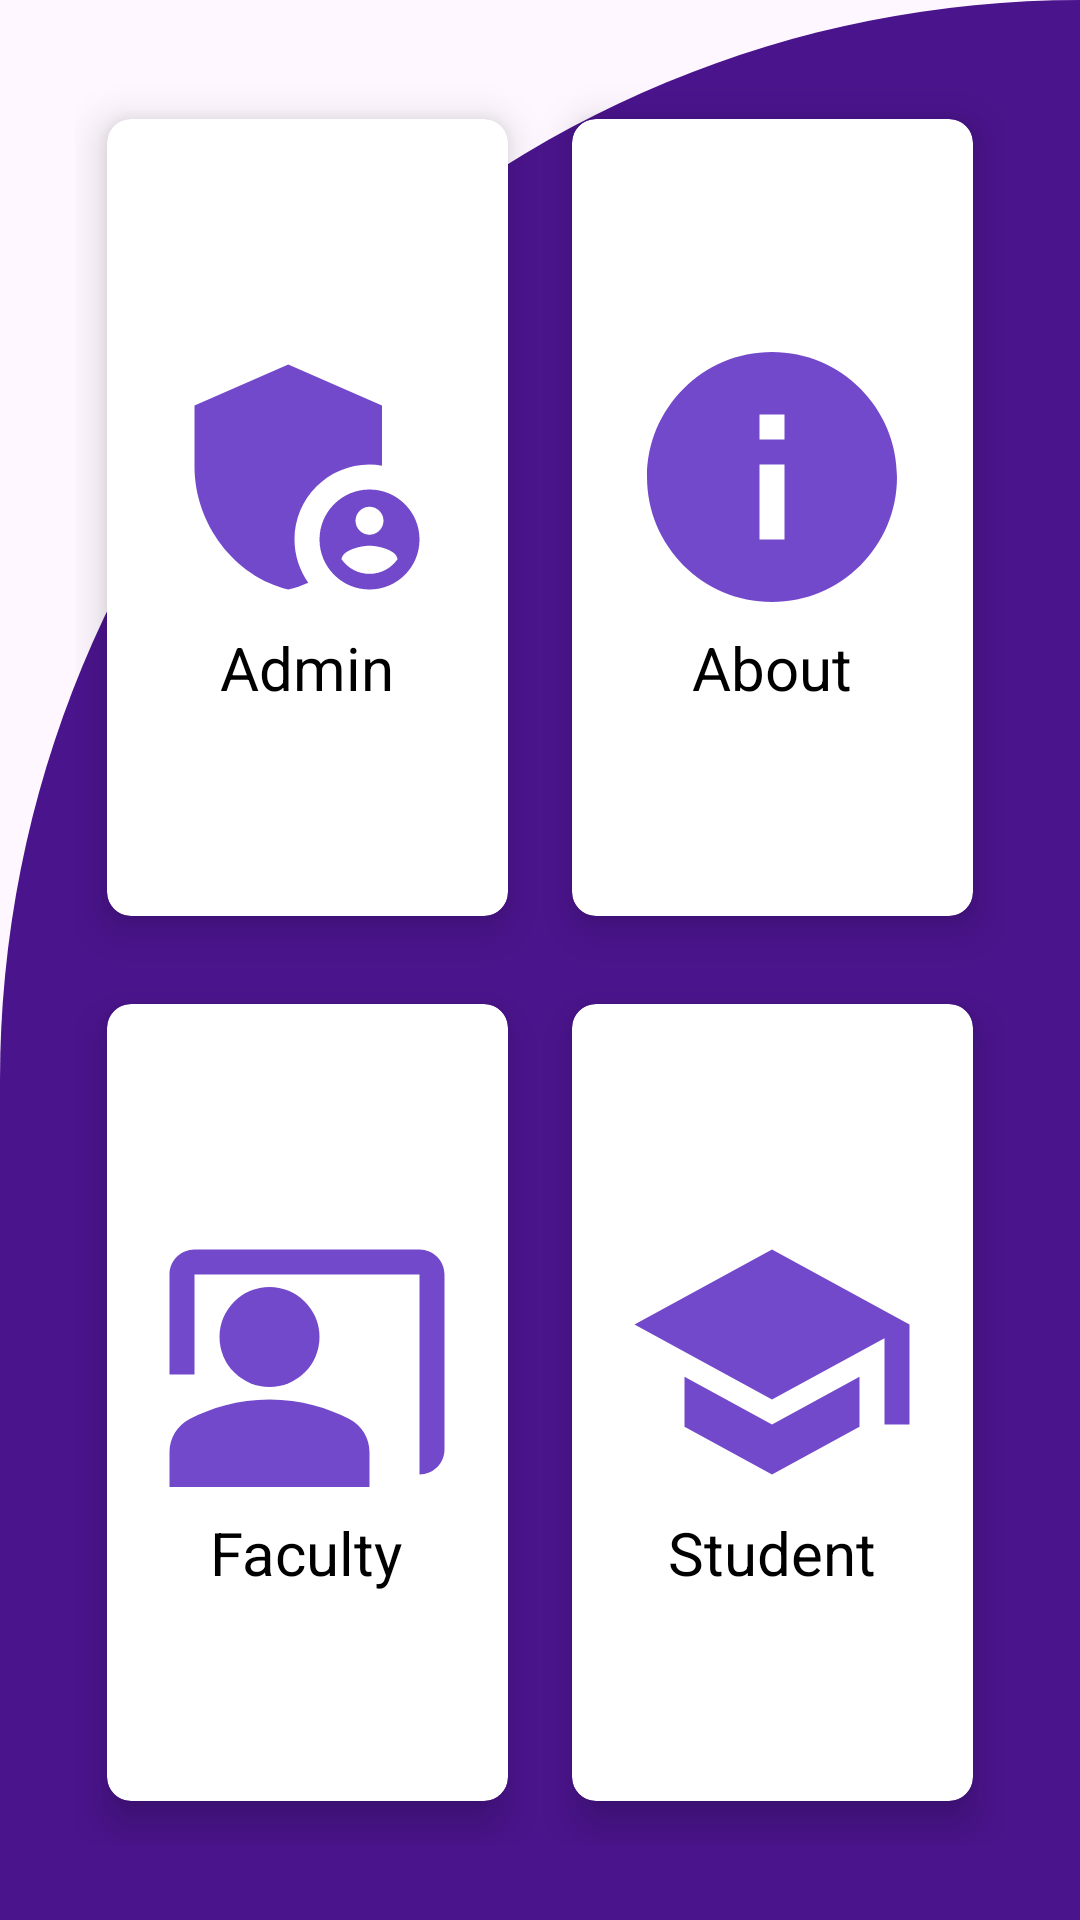

Icons on this 1080x1920 Android screen, each with its box as (x1, y1, x2, y2):
school: (635, 1249, 910, 1475)
